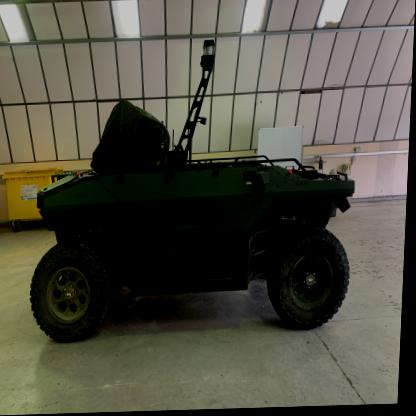UGV: (30, 37, 362, 347)
